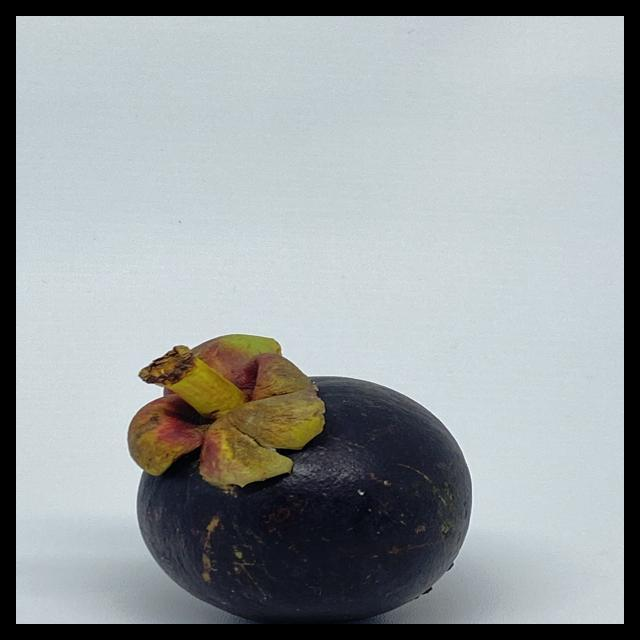mangosteen: (107, 329, 508, 624)
